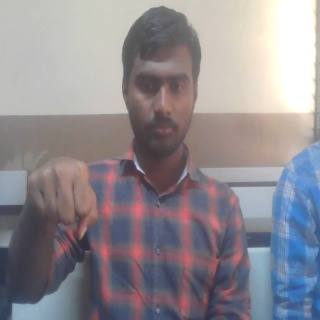Face: (122, 5, 201, 159)
Yes: (23, 154, 100, 241)
